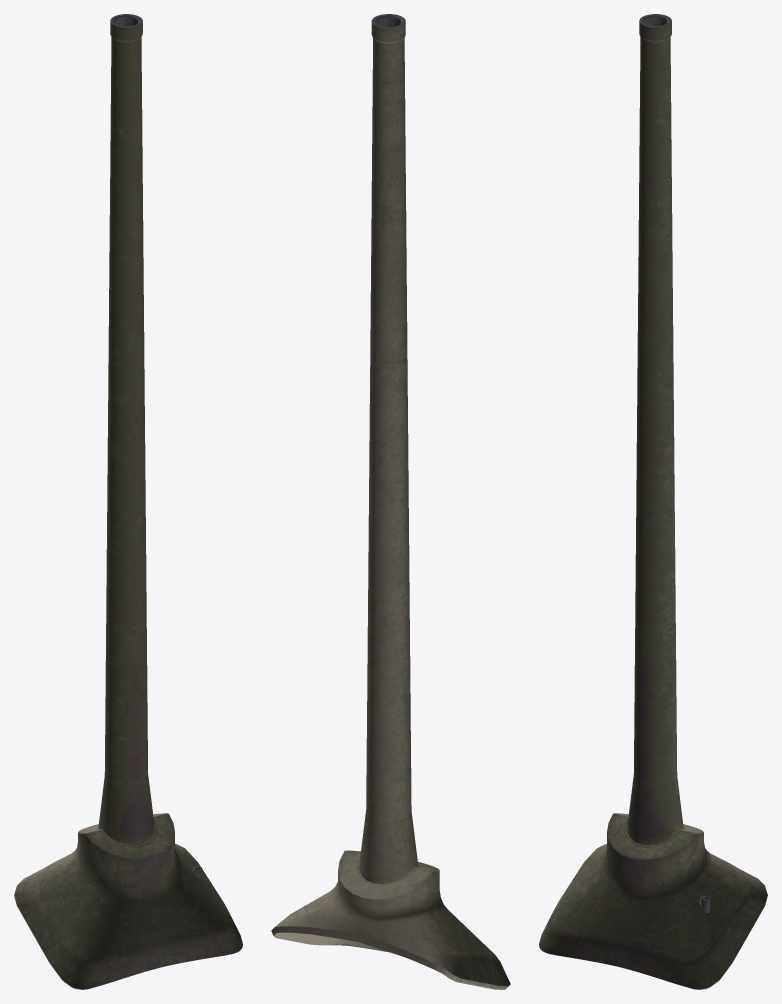
Rendered from Gun_01.glb.
The picture shows the model from 3 angles, left to right: view 1: azimuth 30°, elevation 25°; view 2: azimuth 150°, elevation 25°; view 3: azimuth 330°, elevation 25°; orthographic projection. The views are drawn at different scales.
Parts seen in each view (by area): view 1: set_0_group_0; view 2: set_0_group_0; view 3: set_0_group_0.
Boxes of the visible parts, x1=… form: set_0_group_0: x1=14, y1=14, x2=242, y2=989; set_0_group_0: x1=271, y1=14, x2=510, y2=989; set_0_group_0: x1=539, y1=14, x2=767, y2=989.
Size of the model in its own units: 0.8774 by 4.27 by 0.5532.
1 material, 1 textured.
